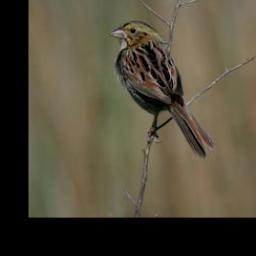Sparrow: (108, 18, 218, 161)
